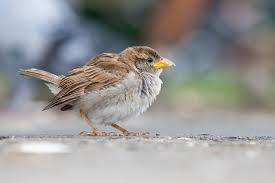hsparrow: (16, 42, 182, 136)
